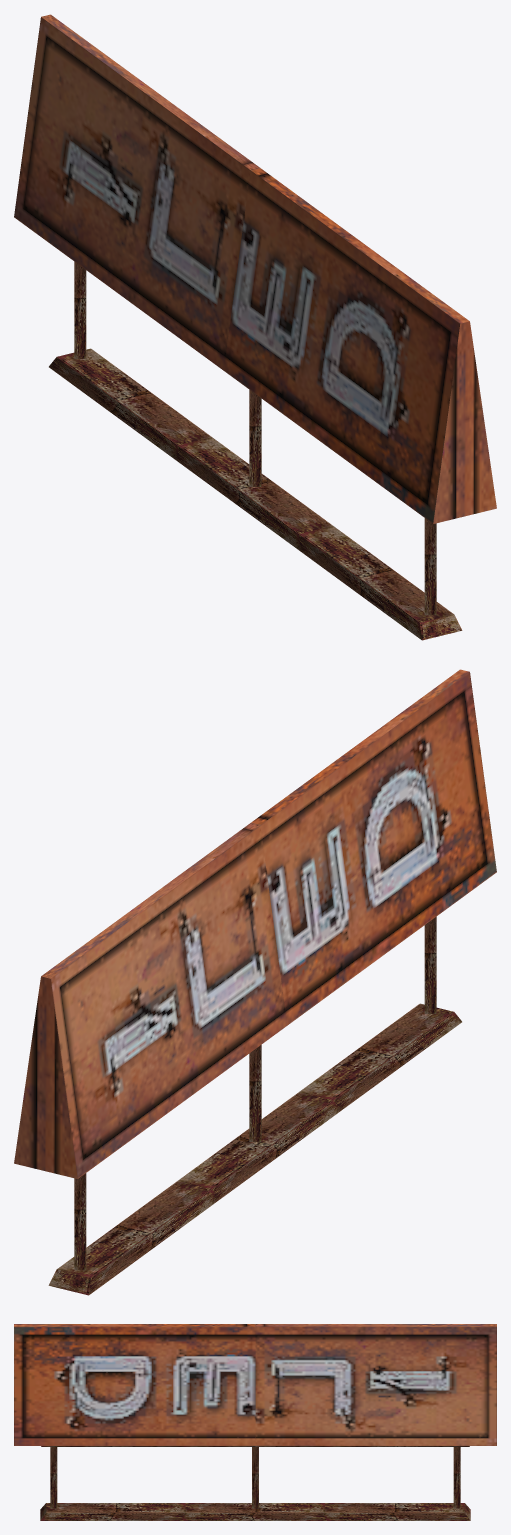
The model's file is restaurant_deli.fbx.
3 views of the same model, one above another, from view 1: azimuth 30°, elevation 25°; view 2: azimuth 150°, elevation 25°; view 3: azimuth 270°, elevation 25° (orthographic). The views are drawn at different scales.
Visible parts, largest first — view 1: mesh_0; view 2: mesh_0; view 3: mesh_0.
Part boxes in pixels (x1,y1,x2,y2): mesh_0: (14,14,496,640); mesh_0: (14,669,496,1295); mesh_0: (14,1324,496,1520).
Size of the model in its own units: 31.52 by 156 by 359.
Materials: 1 (1 with a texture image).
